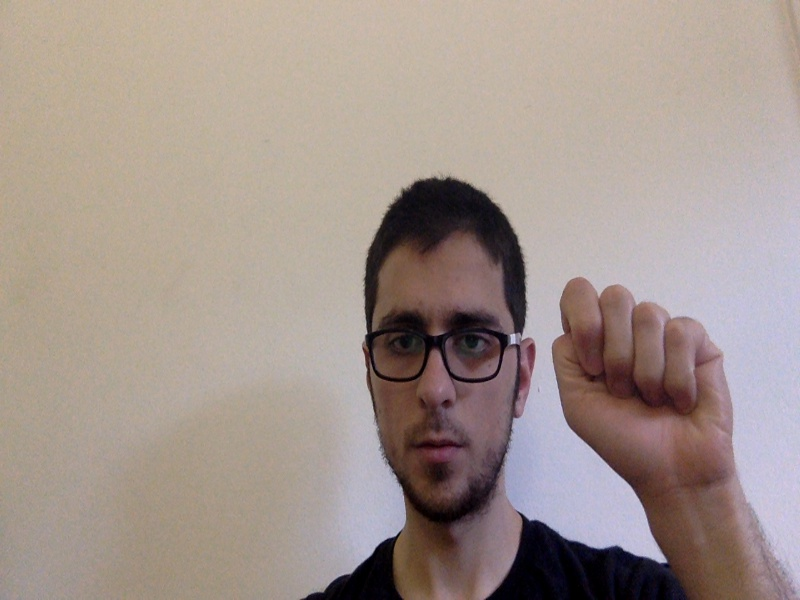0-hand: (553, 279, 733, 491)
